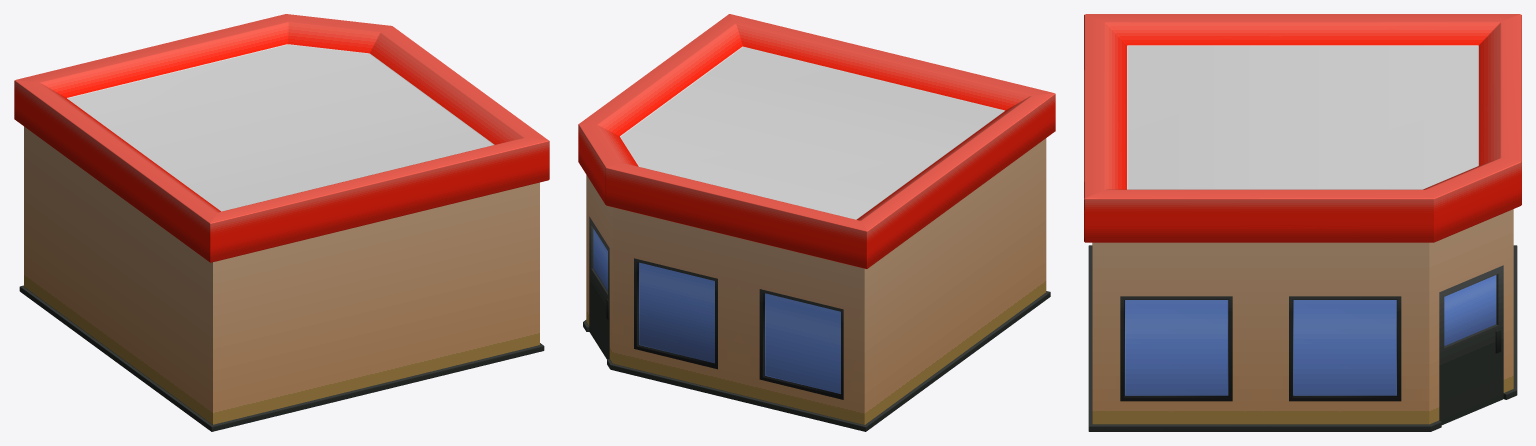
Rendered from SM_building01.fbx.
The picture shows the model from 3 angles, left to right: view 1: azimuth 30°, elevation 25°; view 2: azimuth 150°, elevation 25°; view 3: azimuth 270°, elevation 25°; orthographic projection. The views are drawn at different scales.
Parts seen in each view (by area): view 1: SM_building; view 2: SM_building; view 3: SM_building.
Part boxes in pixels (x1=…): SM_building: x1=14, y1=14, x2=549, y2=431; SM_building: x1=578, y1=14, x2=1055, y2=431; SM_building: x1=1084, y1=14, x2=1521, y2=431.
Size of the model in its own units: 623 by 370 by 623.
